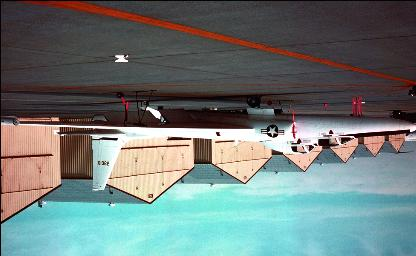Tu160: (1, 88, 415, 190)
